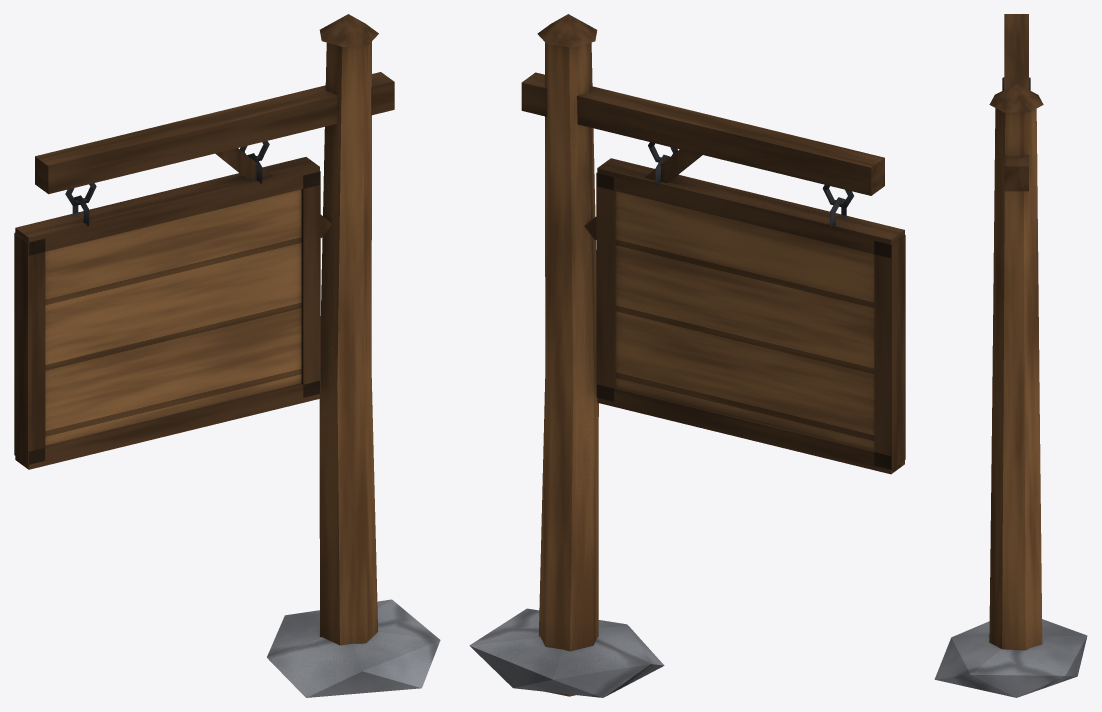
File: letrero_madera.fbx
3 views of the same model, side by side, from view 1: azimuth 30°, elevation 25°; view 2: azimuth 150°, elevation 25°; view 3: azimuth 270°, elevation 25° (orthographic). The views are drawn at different scales.
Visible parts, largest first — view 1: letrero_madera_cartel, letrero_madera; view 2: letrero_madera_cartel, letrero_madera; view 3: letrero_madera.
Part boxes in pixels (left/top/right/bottom): letrero_madera_cartel: left=14, top=157, right=320, bottom=469; letrero_madera: left=35, top=14, right=440, bottom=697; letrero_madera_cartel: left=596, top=158, right=905, bottom=474; letrero_madera: left=469, top=14, right=884, bottom=697; letrero_madera: left=934, top=14, right=1087, bottom=697.
Bounding box in the file's own units: 5.06 × 8.05 × 1.87.
1 material, 1 textured.
